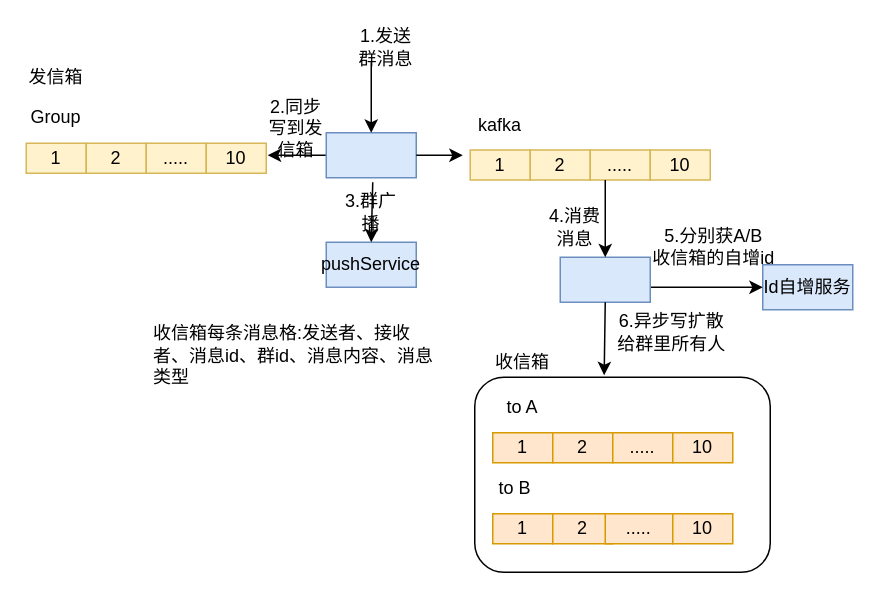
Image size: 879x599. Some labels were removed from this diagram. The box of each missing label's shape, as (x1, y1, x2, y2) in pixels:
imService: (325, 131, 416, 178)
syncService: (559, 256, 650, 302)
